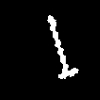half_double_crochet: (47, 15, 77, 78)
